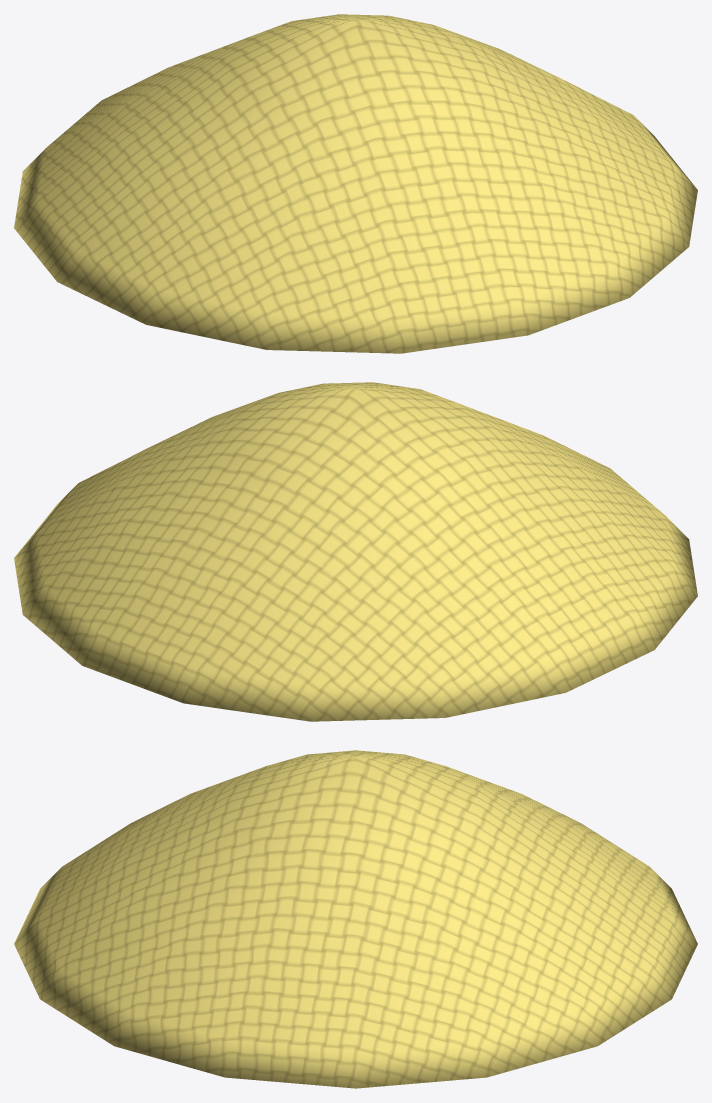
Rendered from hat_01.fbx.
The picture shows the model from 3 angles, top to bottom: view 1: azimuth 30°, elevation 25°; view 2: azimuth 150°, elevation 25°; view 3: azimuth 270°, elevation 25°; orthographic projection.
Parts seen in each view (by area): view 1: chinese; view 2: chinese; view 3: chinese.
Boxes of the visible parts, x1,y1,x2,y2 form: chinese: [14, 14, 697, 353]; chinese: [14, 382, 697, 721]; chinese: [14, 750, 697, 1088].
Bounding box in the file's own units: 209 × 65.27 × 209.
